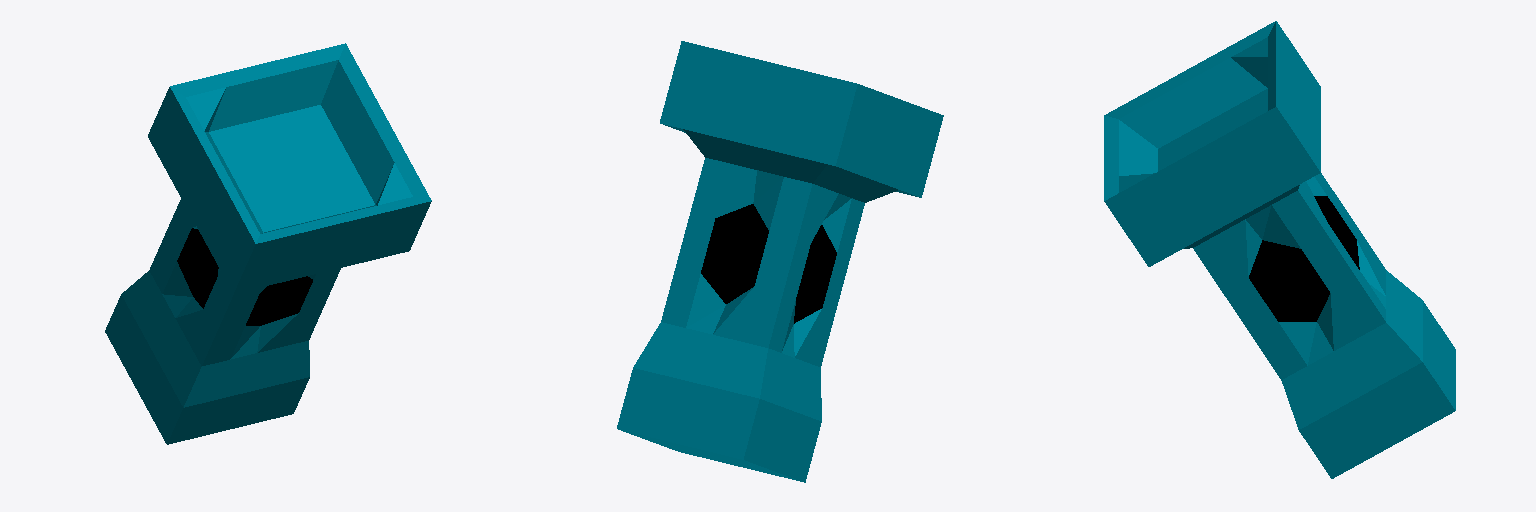
File: wallTower1d.obj
3 renders of one model, left to right at view 1: azimuth 30°, elevation 25°; view 2: azimuth 150°, elevation 25°; view 3: azimuth 270°, elevation 25°, orthographic.
Visible parts, largest first — view 1: Cube; view 2: Cube; view 3: Cube.
Boxes of the visible parts, box(x1,y1,x2,y2) form: Cube: box(105, 43, 431, 444); Cube: box(617, 41, 943, 482); Cube: box(1104, 21, 1455, 478).
Size of the model in its own units: 0.8336 by 1.74 by 1.44.